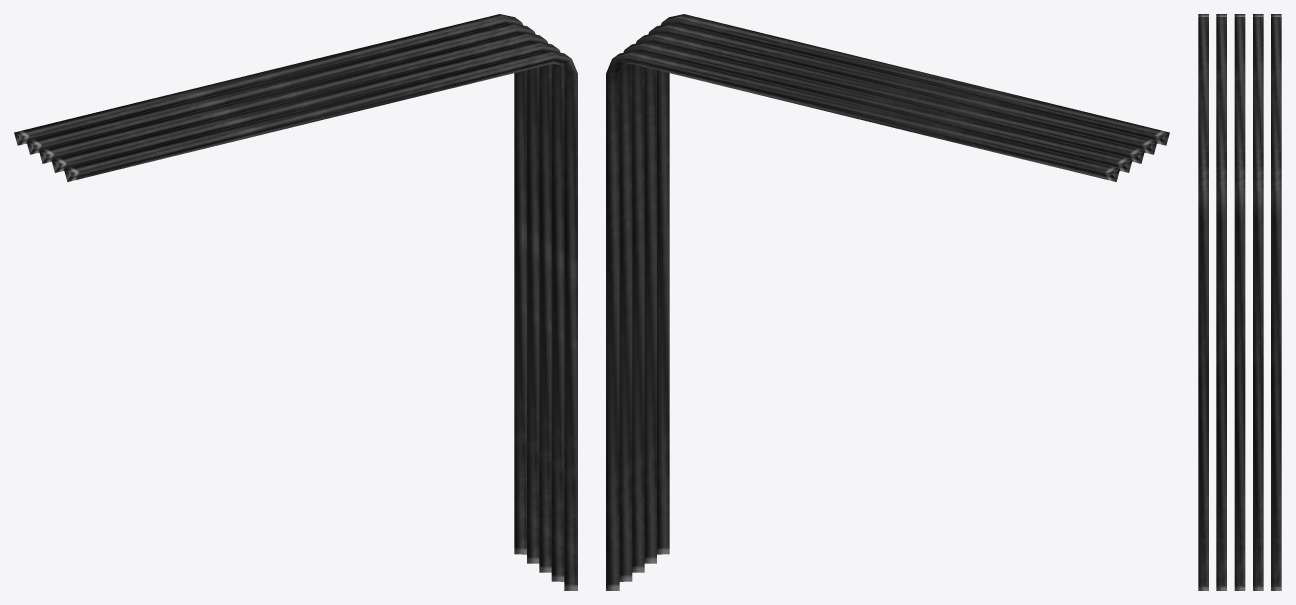
The model's file is CableC.FBX.
3 views of the same model, side by side, from view 1: azimuth 30°, elevation 25°; view 2: azimuth 150°, elevation 25°; view 3: azimuth 270°, elevation 25° (orthographic). The views are drawn at different scales.
Visible parts, largest first — view 1: CableC; view 2: CableC; view 3: CableC.
Part boxes in pixels (box(x1,y1,x2,y2)): CableC: box(14, 14, 577, 590); CableC: box(606, 14, 1169, 590); CableC: box(1198, 14, 1281, 590).
Size of the model in its own units: 19.67 by 20.03 by 3.83.
